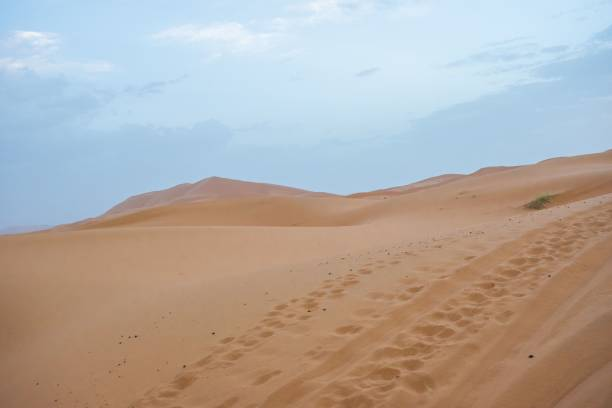human_footprint: (310, 210, 611, 406), (187, 262, 440, 388), (185, 254, 406, 382)
